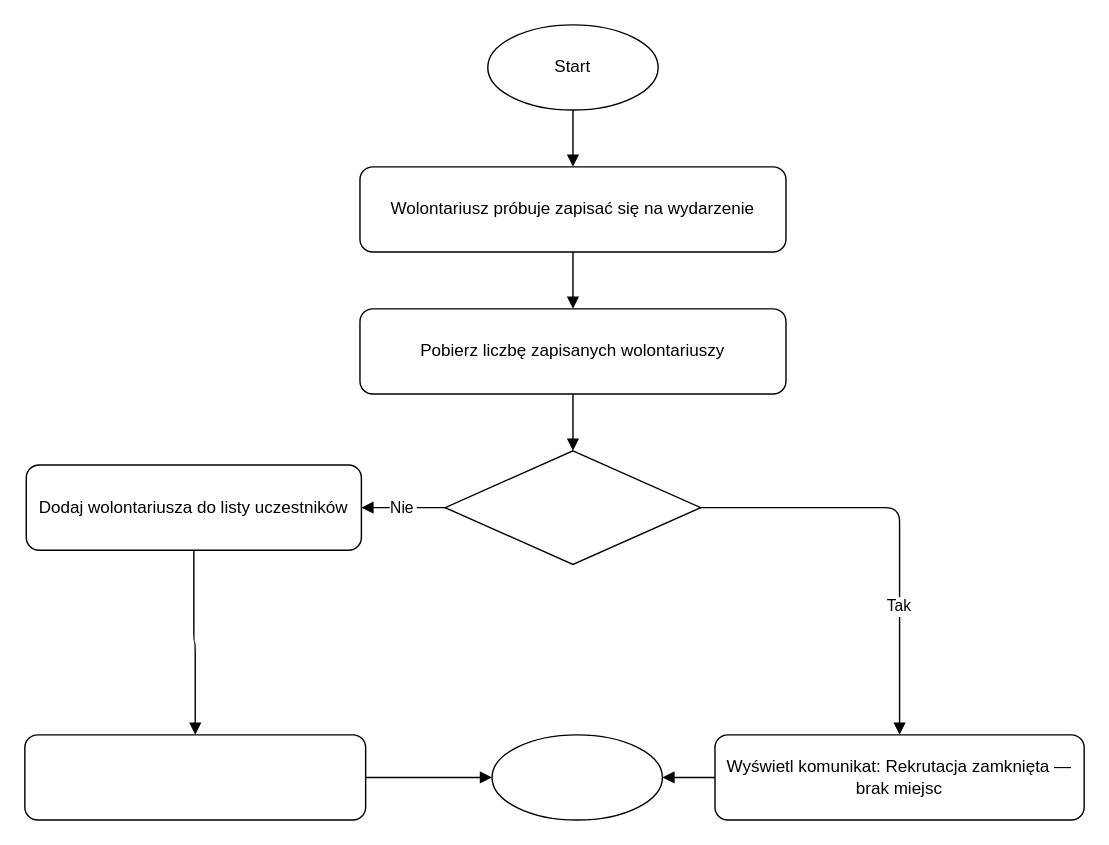
The diagram is 1109 pixels wide and 845 high, and some of its shapes have lost their labels. Each missing label, with the centre of its shape:
Czy osiągnięto limit miejsc?: the point at 572,506
Stop: the point at 576,776
Wyświetl komunikat: Zapis udany: the point at 194,776
